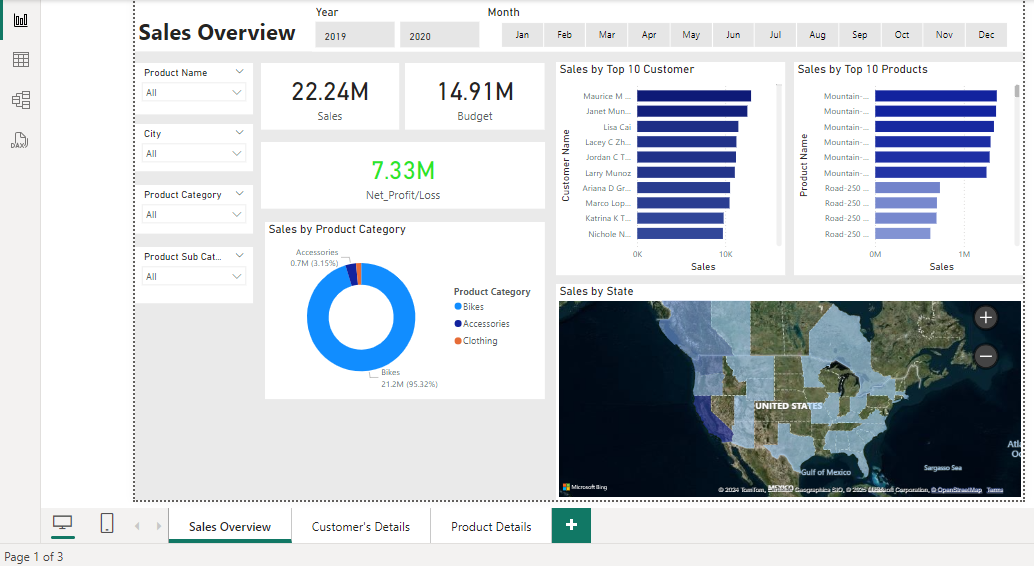

What the dashboard file says about the page in this screenshot:
{"tool":"powerbi","page":{"name":"Sales Overview","canvas":[1280,720],"ordinal":0},"visuals":[{"type":"textbox","box":[0,0,1279.7,73.9],"z":0},{"type":"slicer","fields":{"Values":["Dim_products.Product Name"]},"box":[0,90.6,169.6,73.9],"z":1000},{"type":"slicer","fields":{"Values":["Dim_customers.City"]},"box":[0,179,169.6,68.1],"z":2000},{"type":"slicer","fields":{"Values":["Dim_products.Product Category"]},"box":[0,266,169.6,69.6],"z":3000},{"type":"slicer","fields":{"Values":["Dim_products.Product Sub Category"]},"box":[0,355.8,169.6,81.2],"z":4000},{"type":"advancedSlicerVisual","fields":{"Values":["Dim_date.Year"]},"box":[255.1,7.2,247.8,66.7],"z":5000},{"type":"slicer","title":"Month","fields":{"Values":["Dim_date.MonthShort"]},"box":[502.9,7.2,776.8,66.7],"z":6000},{"type":"card","fields":{"Values":["Measures table.Total_Sales"]},"box":[181.2,90.6,198.6,95.7],"z":7000},{"type":"card","fields":{"Values":["Measures table.Total_Budget"]},"box":[388.4,90.6,201.4,95.7],"z":8000},{"type":"card","fields":{"Values":["Measures table.Net"]},"box":[181.2,205.1,408.7,95.7],"z":9000},{"type":"donutChart","fields":{"Category":["Dim_products.Product Category"],"Y":["Measures table.Total_Sales"]},"box":[187,319.6,402.9,255.1],"z":10000},{"type":"barChart","title":"Sales by Top 10 Customer","fields":{"Y":["Measures table.Total_Sales"],"Category":["Dim_customers.Full Name"]},"box":[605.8,89.9,330.4,307.2],"z":11000},{"type":"barChart","title":"Sales by Top 10 Products","fields":{"Y":["Measures table.Total_Sales"],"Category":["Dim_products.Product Name"]},"box":[949.3,89.9,330.4,307.2],"z":12000},{"type":"filledMap","fields":{"Category":["Dim_customers.State"]},"box":[605.8,408.7,673.9,311.6],"z":13000}]}

Visuals, with their boxes on the page's 1280x720 design canvas (x1, y1, x2, y2). These are canvas units, not pixel positions in the 1034x566 screenshot, which may show the page scaled, cropped or inside an application window:
textbox: detection(0, 0, 1280, 74)
slicer - Dim_products.Product Name: detection(0, 91, 170, 164)
slicer - Dim_customers.City: detection(0, 179, 170, 247)
slicer - Dim_products.Product Category: detection(0, 266, 170, 336)
slicer - Dim_products.Product Sub Category: detection(0, 356, 170, 437)
advancedSlicerVisual - Dim_date.Year: detection(255, 7, 503, 74)
"Month" slicer: detection(503, 7, 1280, 74)
card - Measures table.Total_Sales: detection(181, 91, 380, 186)
card - Measures table.Total_Budget: detection(388, 91, 590, 186)
card - Measures table.Net: detection(181, 205, 590, 301)
donutChart - Dim_products.Product Category x Measures table.Total_Sales: detection(187, 320, 590, 575)
"Sales by Top 10 Customer" barChart: detection(606, 90, 936, 397)
"Sales by Top 10 Products" barChart: detection(949, 90, 1280, 397)
filledMap - Dim_customers.State: detection(606, 409, 1280, 720)
